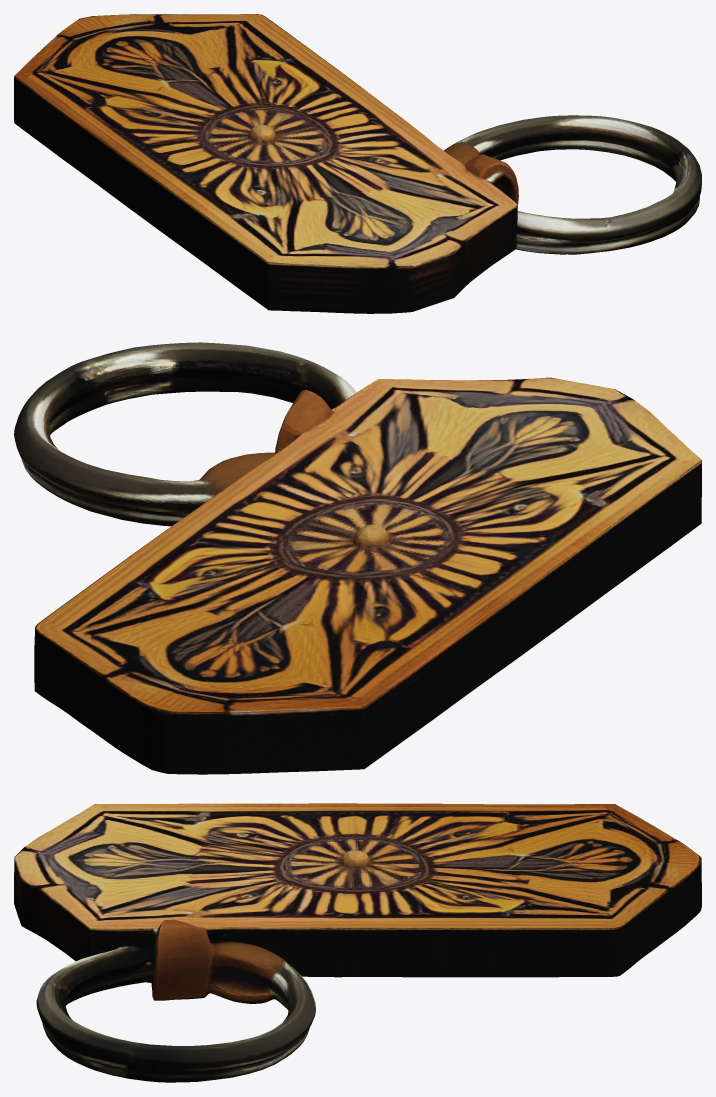
The model's file is wooden-keychain-art-deco.jpeg.glb.
3 views of the same model, one above another, from view 1: azimuth 30°, elevation 25°; view 2: azimuth 150°, elevation 25°; view 3: azimuth 270°, elevation 25° (orthographic). The views are drawn at different scales.
Parts seen in each view (by area): view 1: world; view 2: world; view 3: world.
Boxes of the visible parts, x1,y1,x2,y2 form: world: (14, 14, 701, 313); world: (14, 342, 701, 774); world: (14, 803, 701, 1082).
Size of the model in its own units: 0.7805 by 0.1201 by 0.9938.
1 material, 1 textured.
